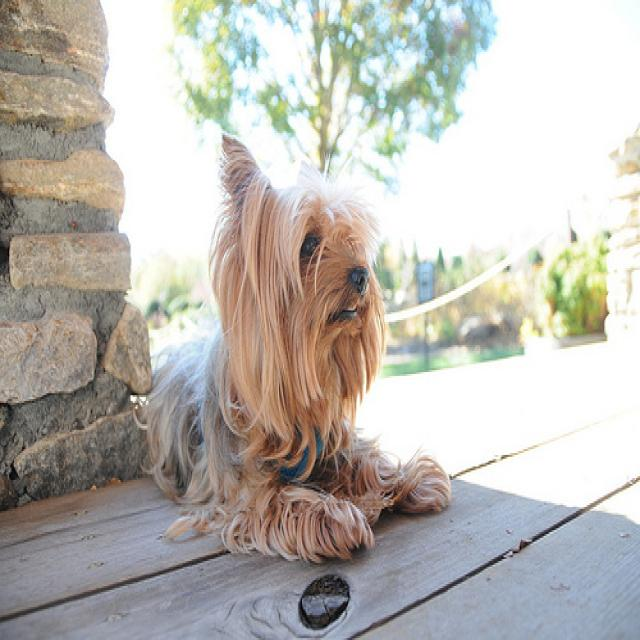dog-yorkshire_terrier: (131, 110, 460, 569)
